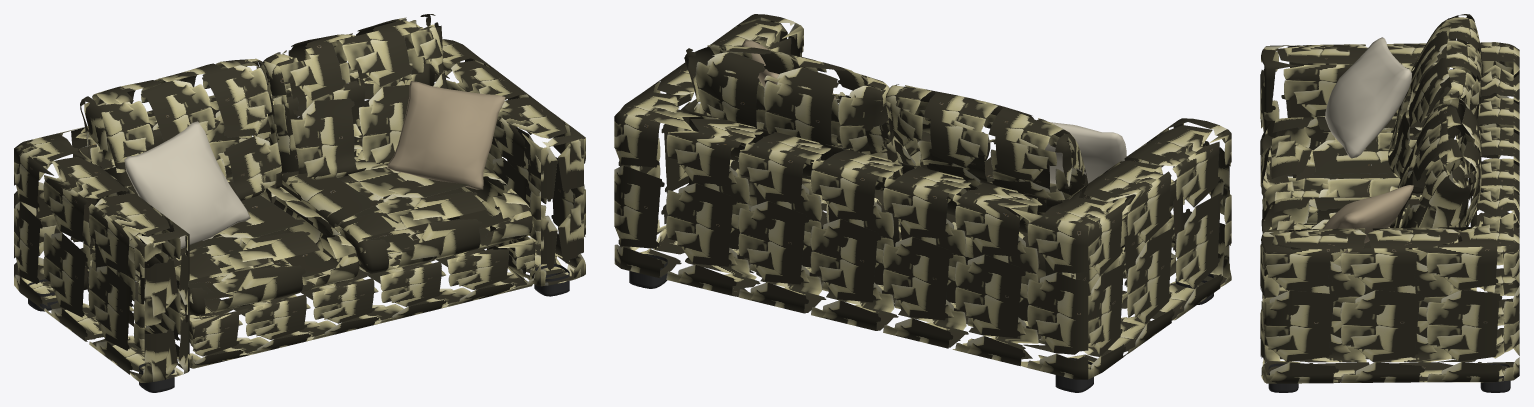
File: bobo.obj
The picture shows the model from 3 angles, left to right: view 1: azimuth 30°, elevation 25°; view 2: azimuth 150°, elevation 25°; view 3: azimuth 270°, elevation 25°; orthographic projection. The views are drawn at different scales.
Visible parts, largest first — view 1: back_Plane.005, base_Cube.021, bigcushion2.002_Cube.024, bigcushion2_Cube.022, base_big_cushion2_Cube.001, base_big_cushion_Cube, cushion_dark_Cube.018, cushion_clear_Cube.019, leg3_Cylinder.011; view 2: back_Plane.005, bigcushion2.002_Cube.024, bigcushion2_Cube.022, cushion_clear_Cube.019, base_Cube.021, base_big_cushion_Cube, base_big_cushion2_Cube.001, leg4_Cylinder.014, leg1_Cylinder.013; view 3: back_Plane.005, base_big_cushion_Cube, bigcushion2.002_Cube.024, bigcushion2_Cube.022, cushion_clear_Cube.019, base_big_cushion2_Cube.001, cushion_dark_Cube.018, base_Cube.021, leg4_Cylinder.014, leg3_Cylinder.011.
Part boxes in pixels (<box>): back_Plane.005: <box>14,39,585,382</box>; base_Cube.021: <box>87,181,534,368</box>; bigcushion2.002_Cube.024: <box>263,14,447,182</box>; bigcushion2_Cube.022: <box>80,58,282,200</box>; base_big_cushion2_Cube.001: <box>266,141,533,273</box>; base_big_cushion_Cube: <box>90,173,359,316</box>; cushion_dark_Cube.018: <box>387,81,505,189</box>; cushion_clear_Cube.019: <box>124,121,250,248</box>; leg3_Cylinder.011: <box>534,264,569,296</box>; back_Plane.005: <box>614,14,1231,379</box>; bigcushion2.002_Cube.024: <box>684,44,900,190</box>; bigcushion2_Cube.022: <box>885,84,1088,233</box>; cushion_clear_Cube.019: <box>1045,122,1126,184</box>; base_Cube.021: <box>729,200,1176,344</box>; base_big_cushion_Cube: <box>889,139,1176,282</box>; base_big_cushion2_Cube.001: <box>729,94,990,228</box>; leg4_Cylinder.014: <box>629,254,667,288</box>; leg1_Cylinder.013: <box>1055,358,1093,392</box>; back_Plane.005: <box>1260,42,1519,383</box>; base_big_cushion_Cube: <box>1261,116,1468,224</box>; bigcushion2.002_Cube.024: <box>1389,94,1481,274</box>; bigcushion2_Cube.022: <box>1388,14,1481,193</box>; cushion_clear_Cube.019: <box>1325,37,1411,158</box>; base_big_cushion2_Cube.001: <box>1261,197,1468,298</box>; cushion_dark_Cube.018: <box>1323,185,1413,252</box>; base_Cube.021: <box>1263,156,1468,359</box>; leg4_Cylinder.014: <box>1480,363,1510,392</box>; leg3_Cylinder.011: <box>1268,363,1298,392</box>.
Size of the model in its own units: 4.08 by 1.91 by 2.16.
